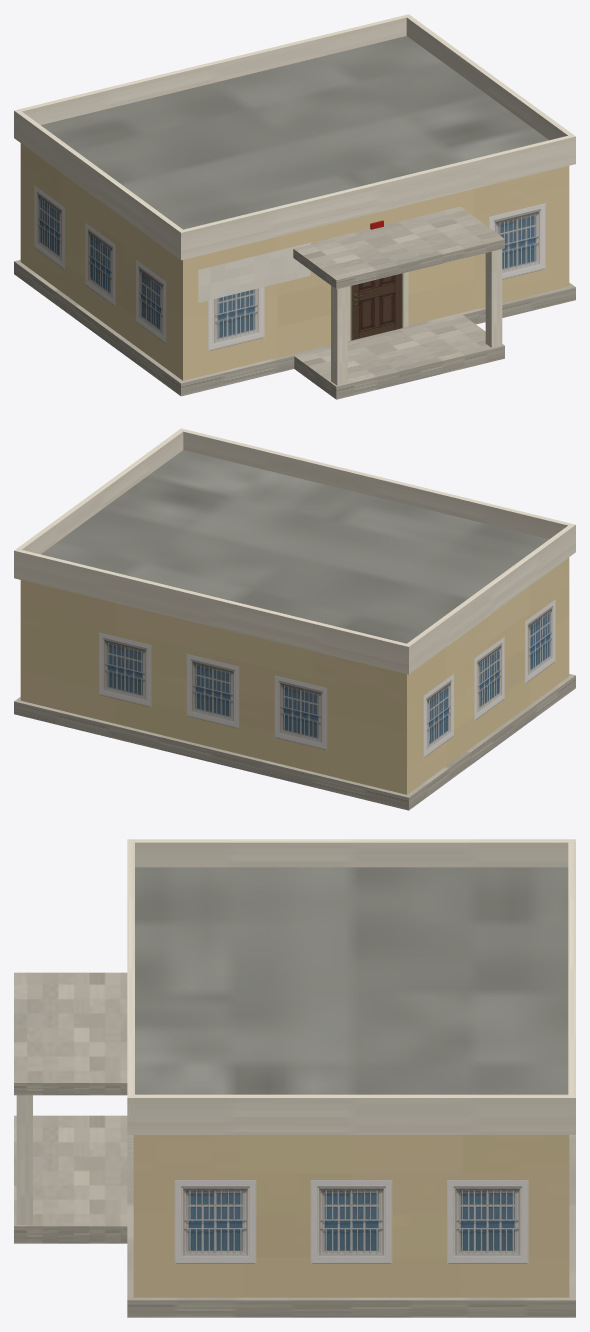
File: clinic-cream-far.glb
3 views of the same model, one above another, from view 1: azimuth 30°, elevation 25°; view 2: azimuth 150°, elevation 25°; view 3: azimuth 270°, elevation 25° (orthographic). The views are drawn at different scales.
Parts seen in each view (by area): view 1: clinic-cream-far, sign_1; view 2: clinic-cream-far; view 3: clinic-cream-far.
Part boxes in pixels (x1=…): clinic-cream-far: x1=14, y1=14, x2=575, y2=399; sign_1: x1=198, y1=242, x2=310, y2=302; clinic-cream-far: x1=14, y1=428, x2=575, y2=810; clinic-cream-far: x1=14, y1=839, x2=575, y2=1317.
Bounding box in the file's own units: 11.24 × 4.45 × 10.32.
1 material, 1 textured.
